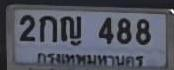2: (19, 14, 34, 40)
4: (98, 16, 112, 43)
8: (135, 18, 150, 44), (116, 17, 130, 43)
A01: (39, 15, 56, 41)
A13: (60, 15, 81, 41)
BKK: (34, 51, 148, 69)
